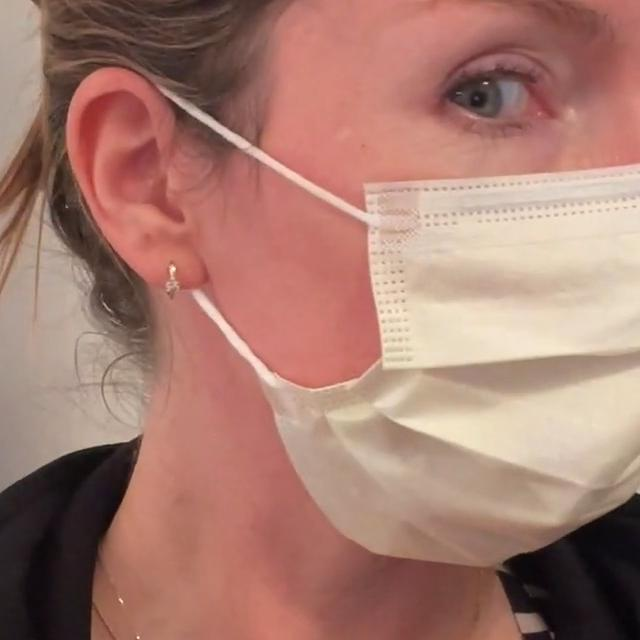Mask: (131, 54, 640, 565)
NO-Safety Vest: (0, 486, 640, 640)
Person: (0, 0, 640, 640)
